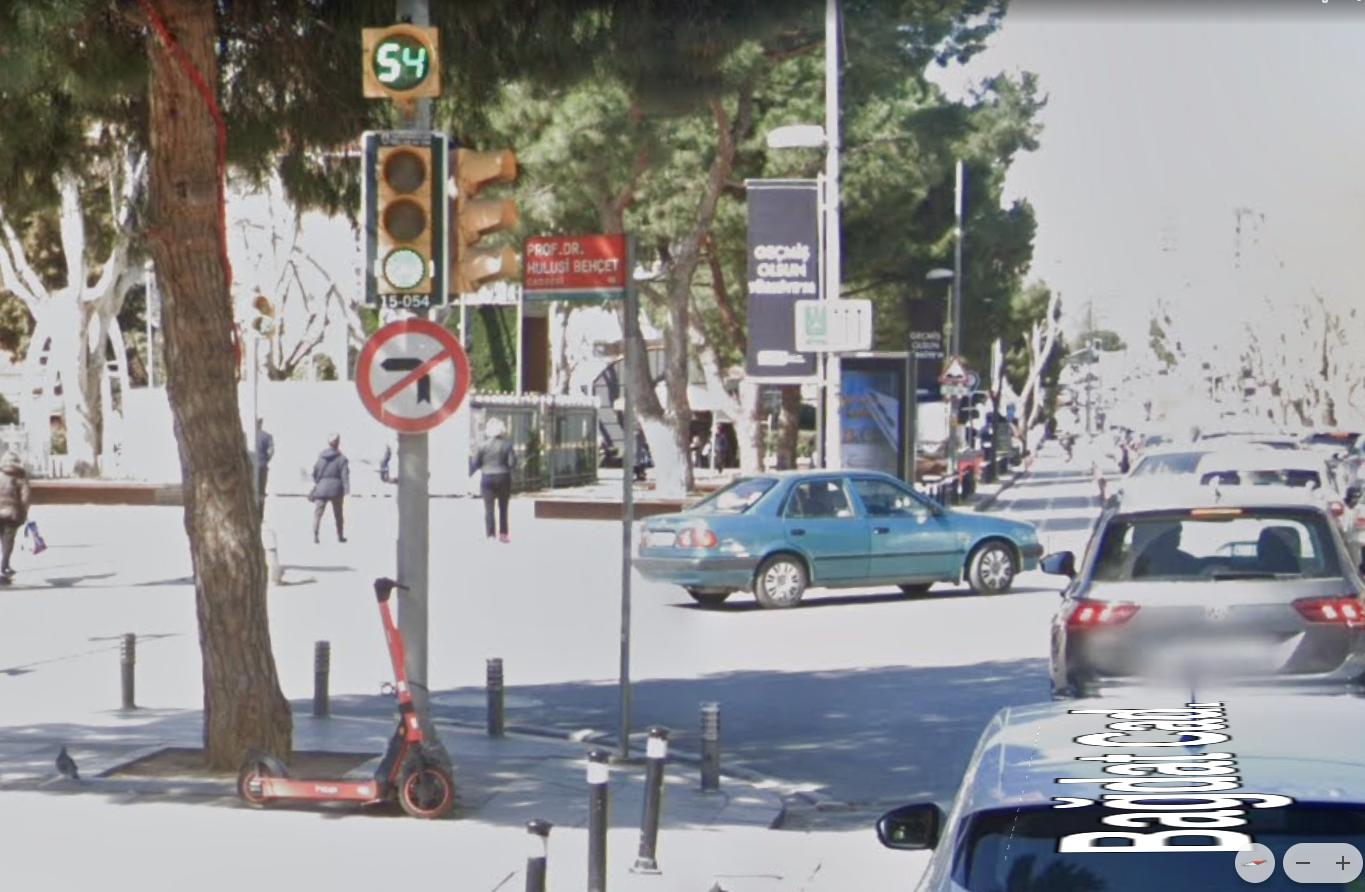greenlight: (362, 131, 442, 308)
leftturnsareforbidden: (359, 328, 465, 429)
